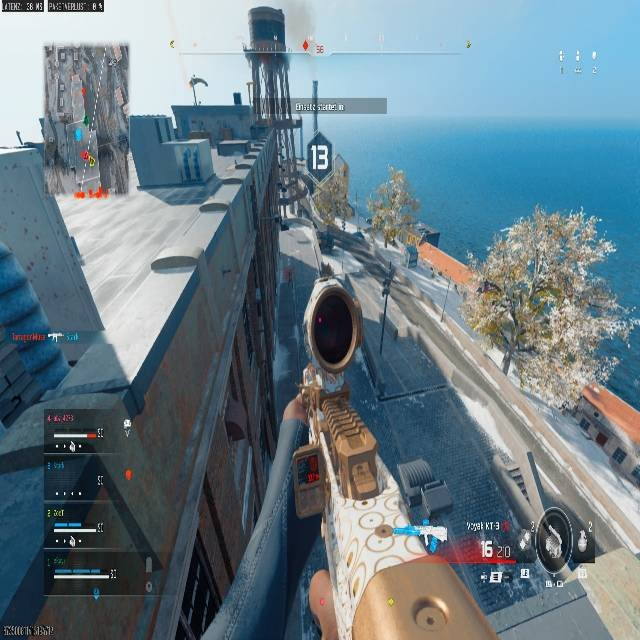head: (304, 283, 359, 360), (308, 133, 332, 167)
